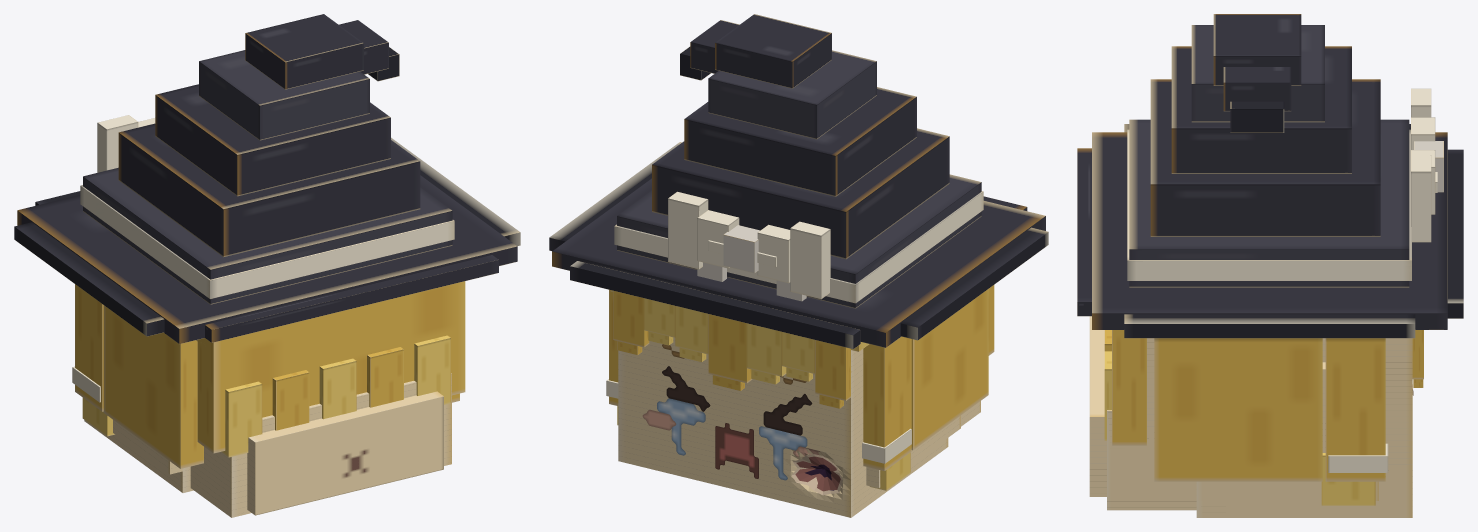
File: tear_marisa_3.obj
3 renders of one model, left to right at view 1: azimuth 30°, elevation 25°; view 2: azimuth 150°, elevation 25°; view 3: azimuth 270°, elevation 25°, orthographic. The views are drawn at different scales.
Visible parts, largest first — view 1: tear_marisa_3; view 2: tear_marisa_3; view 3: tear_marisa_3.
Part boxes in pixels (x1,y1,x2,y2): tear_marisa_3: [14, 14, 520, 517]; tear_marisa_3: [549, 14, 1048, 517]; tear_marisa_3: [1077, 14, 1463, 517].
Bounding box in the file's own units: 19 × 19.34 × 15.53.
Materials: 1 (1 with a texture image).
